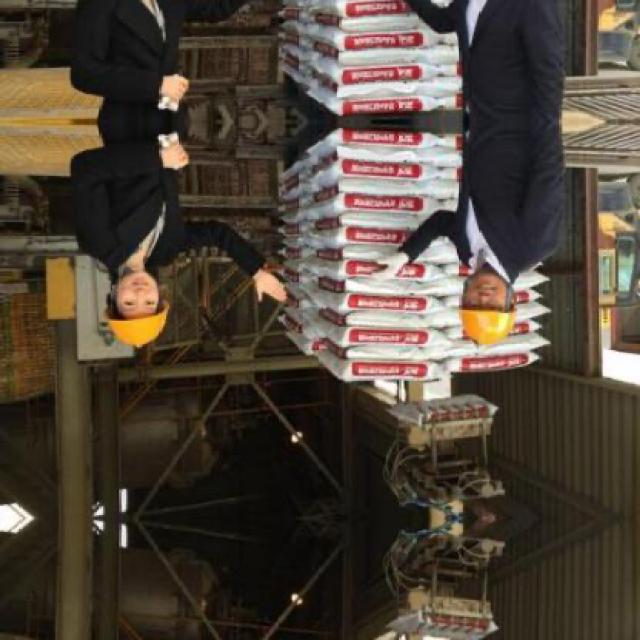con casco: (59, 244, 220, 366), (413, 250, 551, 368)
